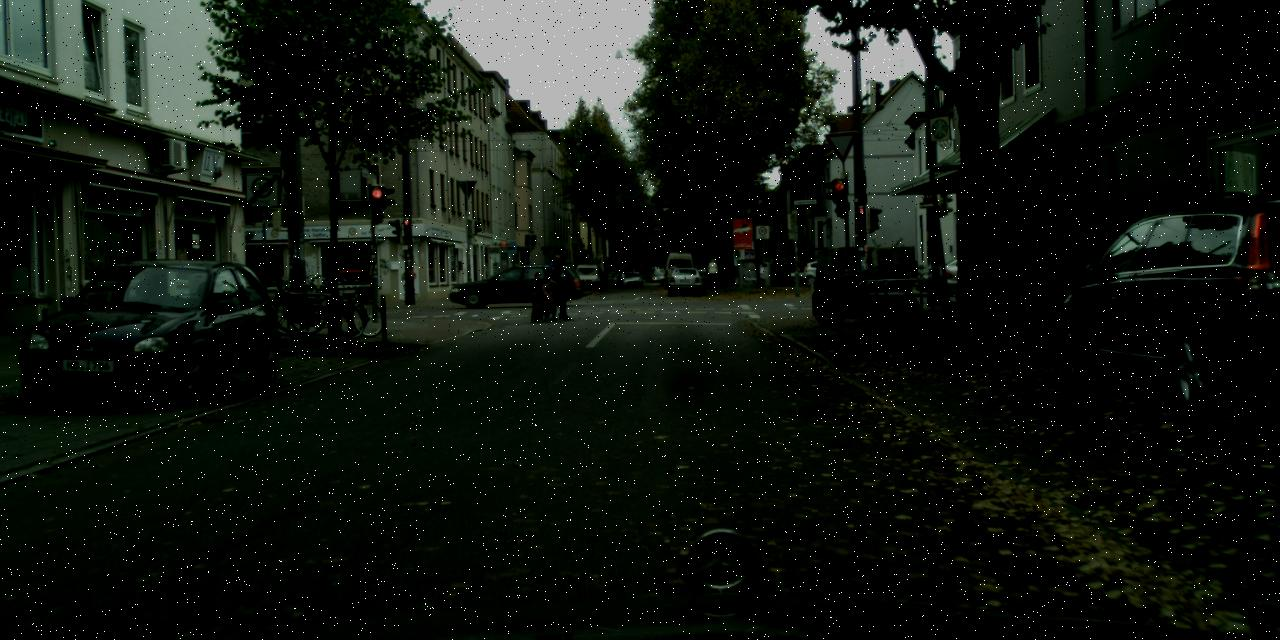ped: (540, 254, 566, 318), (544, 258, 568, 317), (527, 271, 546, 318), (538, 276, 556, 321), (543, 281, 558, 318), (514, 260, 528, 292), (766, 258, 776, 285), (708, 258, 718, 284), (614, 270, 618, 281)
